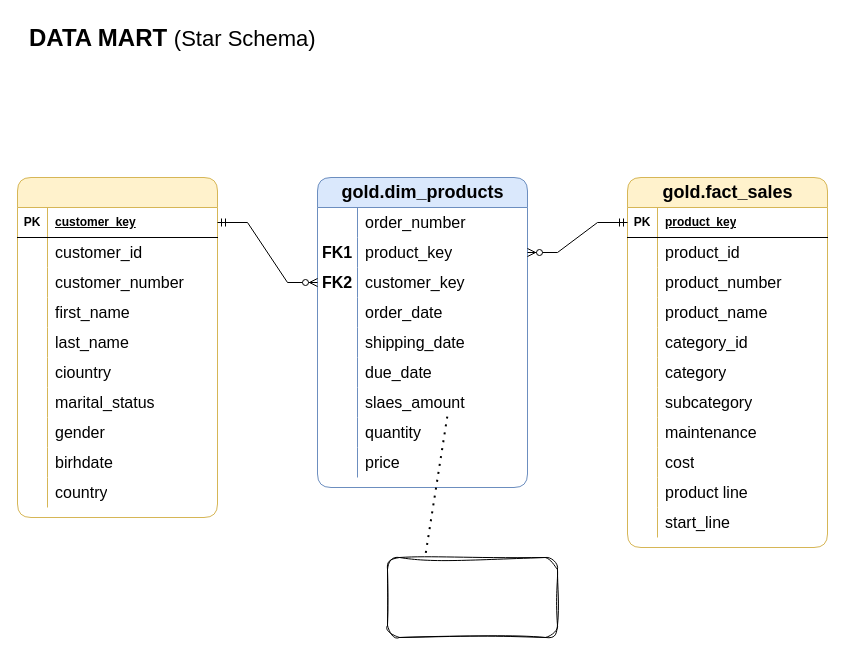
This 845x657 diagram has some shape labels left out. Each missing label, with the box of its shape:
gold.dim_customers: (16, 176, 218, 518)
Sales Calculation Sales = Quantity * price: (386, 556, 558, 638)
